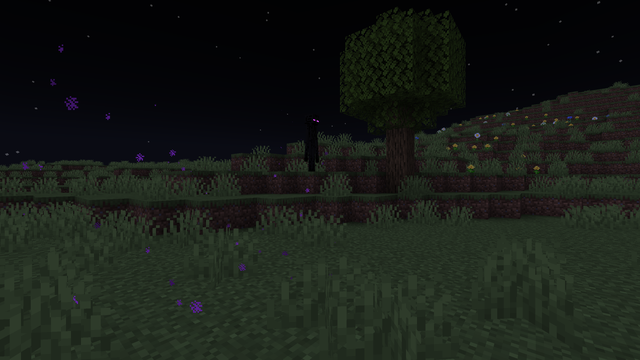endermens: (303, 111, 320, 157)
